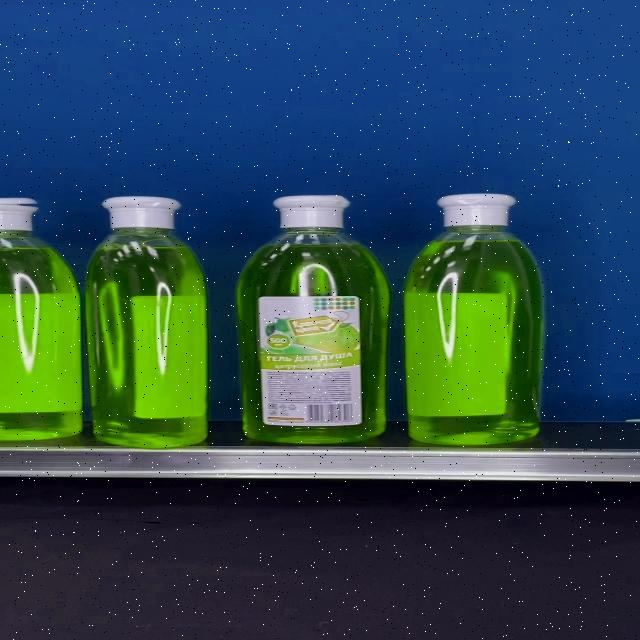Bottle: (236, 195, 389, 444), (404, 193, 542, 444), (84, 196, 208, 448)
Cap: (436, 193, 518, 227), (102, 197, 180, 230), (274, 196, 354, 228)
